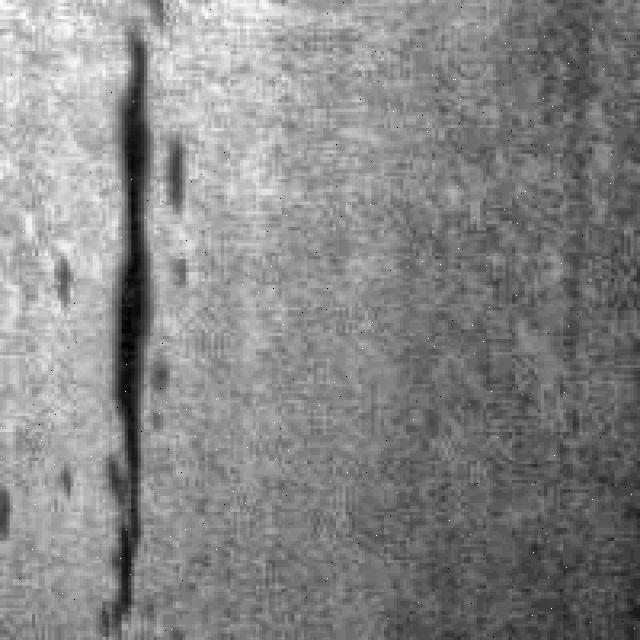Patches: (86, 16, 182, 589), (80, 438, 144, 634)
